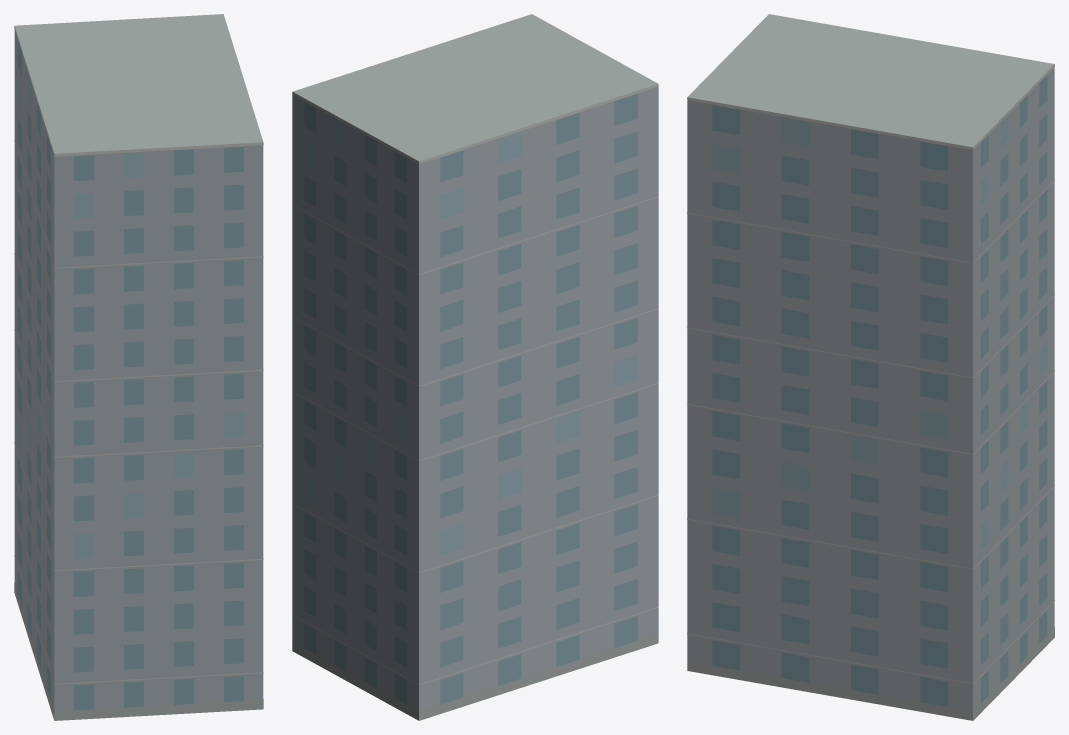
The model's file is residential-ff0fb122-a77a-448d-8cdd-318d6fd0a235.glb.
The picture shows the model from 3 angles, left to right: view 1: azimuth 30°, elevation 25°; view 2: azimuth 150°, elevation 25°; view 3: azimuth 270°, elevation 25°; orthographic projection. The views are drawn at different scales.
Visible parts, largest first — view 1: residential-ff0fb122-a77a-448d-8cdd-318d6fd0a235.tmp; view 2: residential-ff0fb122-a77a-448d-8cdd-318d6fd0a235.tmp; view 3: residential-ff0fb122-a77a-448d-8cdd-318d6fd0a235.tmp.
Part boxes in pixels (x1,y1,x2,y2): residential-ff0fb122-a77a-448d-8cdd-318d6fd0a235.tmp: (14, 14, 263, 720); residential-ff0fb122-a77a-448d-8cdd-318d6fd0a235.tmp: (292, 14, 658, 720); residential-ff0fb122-a77a-448d-8cdd-318d6fd0a235.tmp: (687, 14, 1054, 720).
Bounding box in the file's own units: 23.95 × 48 × 27.9.
